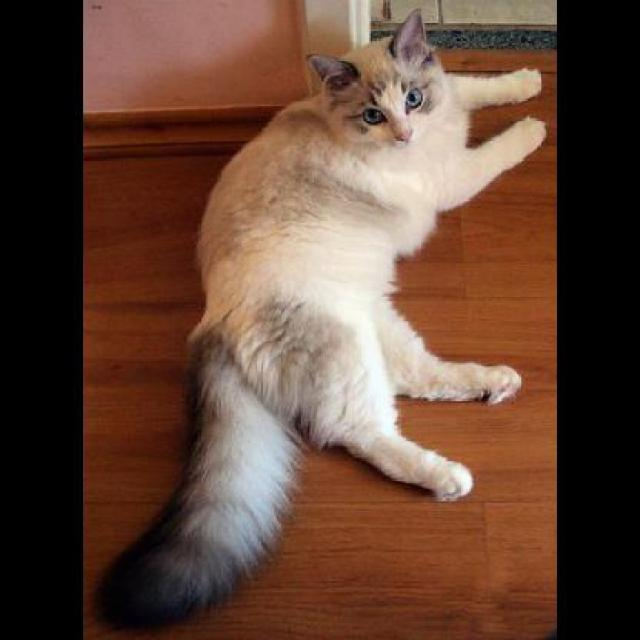unauthorized: (92, 6, 548, 629)
